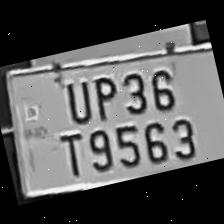3: (113, 64, 152, 118), (162, 110, 198, 164)
5: (107, 116, 144, 170)
6: (142, 60, 182, 114), (136, 114, 173, 166)
9: (80, 124, 116, 174)
P: (84, 68, 122, 122)
T: (51, 126, 90, 180)
U: (55, 70, 95, 125)
